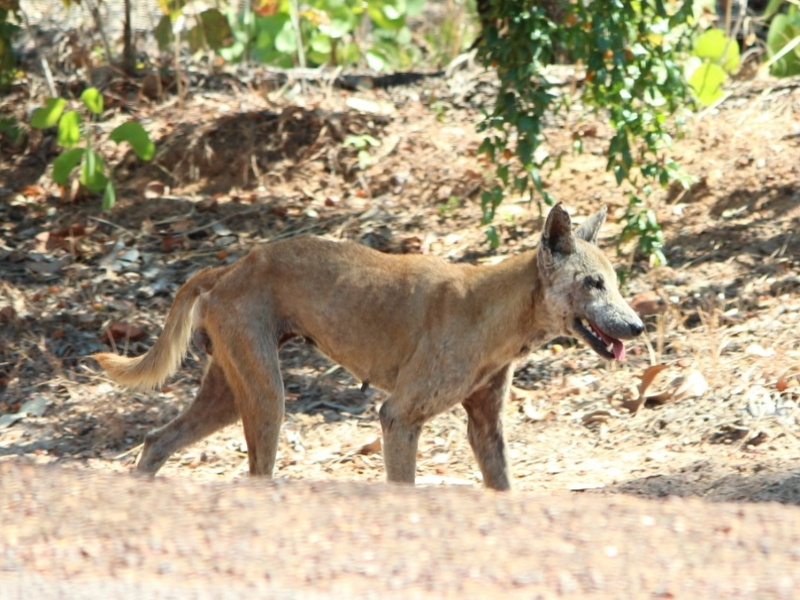dog: (95, 201, 644, 481)
